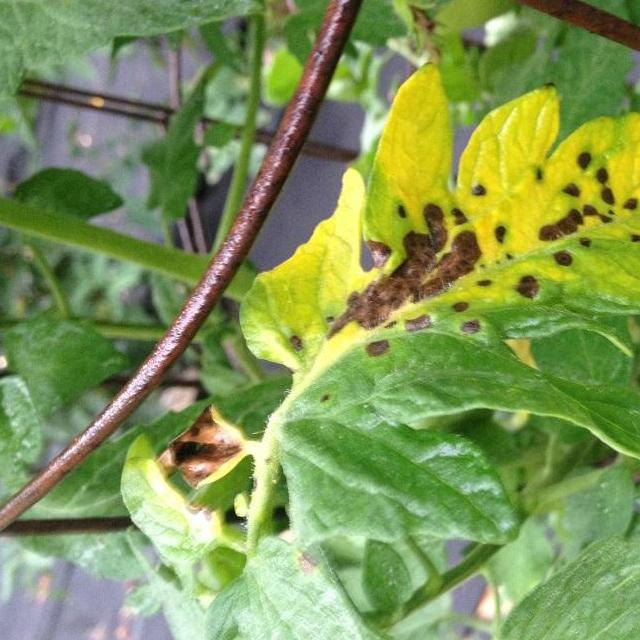Tomato leaf bacterial spot: (223, 61, 640, 402)
